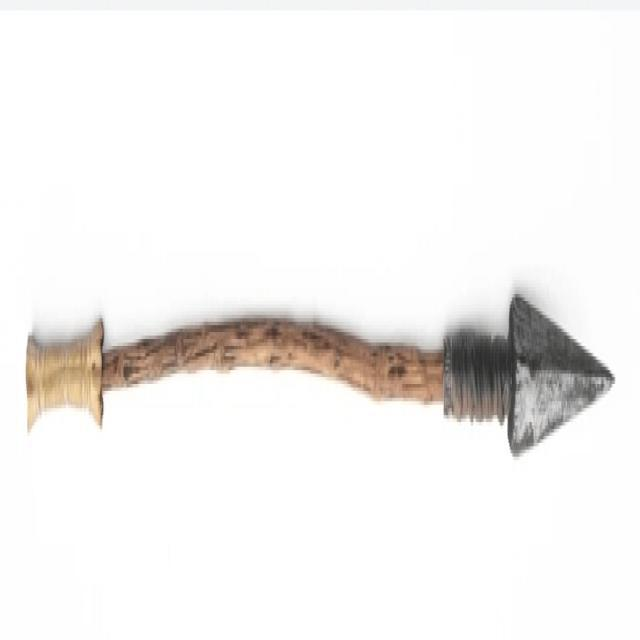spear: (22, 256, 619, 479)
